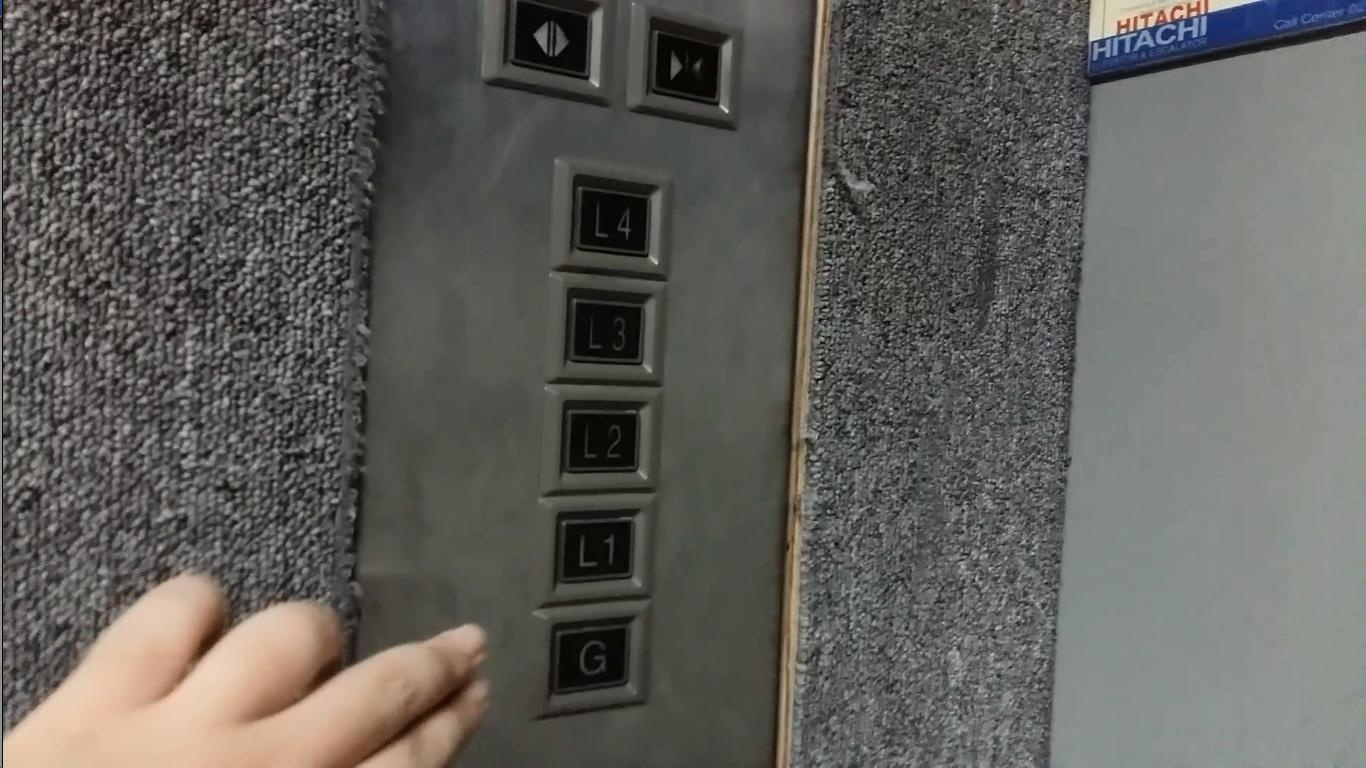G: (531, 603, 650, 719)
L1: (541, 492, 658, 605)
L2: (544, 381, 660, 497)
L3: (543, 271, 668, 390)
L4: (549, 154, 678, 278)
close: (622, 1, 746, 130)
open: (484, 3, 613, 106)
